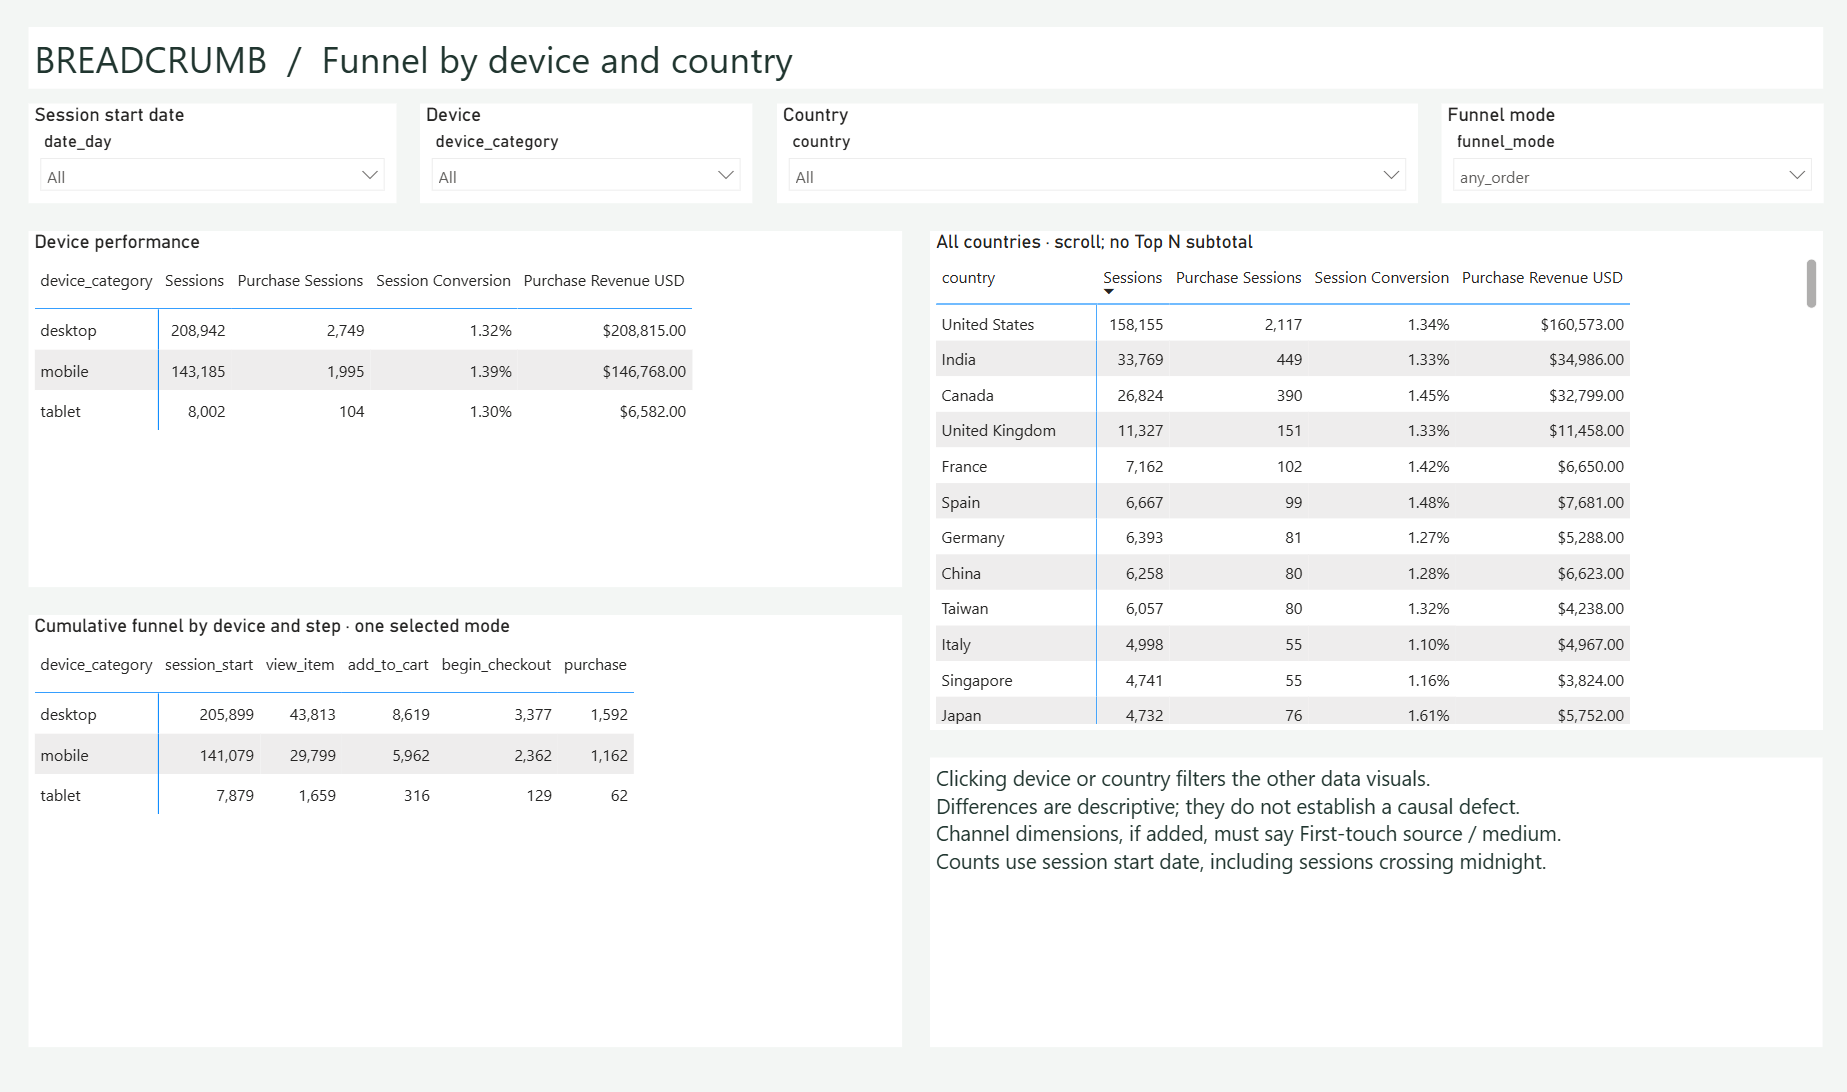

This screenshot's page, from the dashboard's own definition file:
{"tool":"powerbi","page":{"name":"Funnel by device and country","canvas":[1560,984],"ordinal":1},"visuals":[{"type":"textbox","box":[24,10,1512,52],"z":0},{"type":"textbox","box":[24,944,1512,36],"z":1},{"type":"slicer","title":"Session start date","fields":{"Values":["dim_date.date_day"]},"box":[24,74,310,84],"z":2},{"type":"slicer","title":"Device","fields":{"Values":["dim_device.device_category"]},"box":[354,74,280,84],"z":3},{"type":"slicer","title":"Country","fields":{"Values":["dim_country.country"]},"box":[654,74,540,84],"z":4},{"type":"slicer","title":"Funnel mode","fields":{"Values":["fct_funnel_daily.funnel_mode"]},"box":[1214,74,322,84],"z":5},{"type":"pivotTable","title":"Device performance","fields":{"Rows":["dim_device.device_category"],"Values":["fct_sessions.Sessions","fct_sessions.Purchase Sessions","fct_sessions.Session Conversion","fct_sessions.Purchase Revenue USD"]},"box":[24,182,736,300],"z":6},{"type":"pivotTable","title":"All countries · scroll; no Top N subtotal","fields":{"Rows":["dim_country.country"],"Values":["fct_sessions.Sessions","fct_sessions.Purchase Sessions","fct_sessions.Session Conversion","fct_sessions.Purchase Revenue USD"]},"box":[784,182,752,420],"z":7},{"type":"pivotTable","title":"Cumulative funnel by device and step · one selected mode","fields":{"Columns":["fct_funnel_daily.step_name"],"Rows":["dim_device.device_category"],"Values":["fct_sessions.Funnel Reached Sessions"]},"box":[24,506,736,364],"z":8},{"type":"textbox","box":[784,626,752,244],"z":9}]}

Visuals, with their boxes on the page's 1560x984 design canvas (x1, y1, x2, y2). These are canvas units, not pixel positions in the 1847x1092 screenshot, which may show the page scaled, cropped or inside an application window:
textbox: pyautogui.locateOnScreen(24, 10, 1536, 62)
textbox: pyautogui.locateOnScreen(24, 944, 1536, 980)
"Session start date" slicer: pyautogui.locateOnScreen(24, 74, 334, 158)
"Device" slicer: pyautogui.locateOnScreen(354, 74, 634, 158)
"Country" slicer: pyautogui.locateOnScreen(654, 74, 1194, 158)
"Funnel mode" slicer: pyautogui.locateOnScreen(1214, 74, 1536, 158)
"Device performance" pivotTable: pyautogui.locateOnScreen(24, 182, 760, 482)
"All countries · scroll; no Top N subtotal" pivotTable: pyautogui.locateOnScreen(784, 182, 1536, 602)
"Cumulative funnel by device and step · one selected mode" pivotTable: pyautogui.locateOnScreen(24, 506, 760, 870)
textbox: pyautogui.locateOnScreen(784, 626, 1536, 870)
